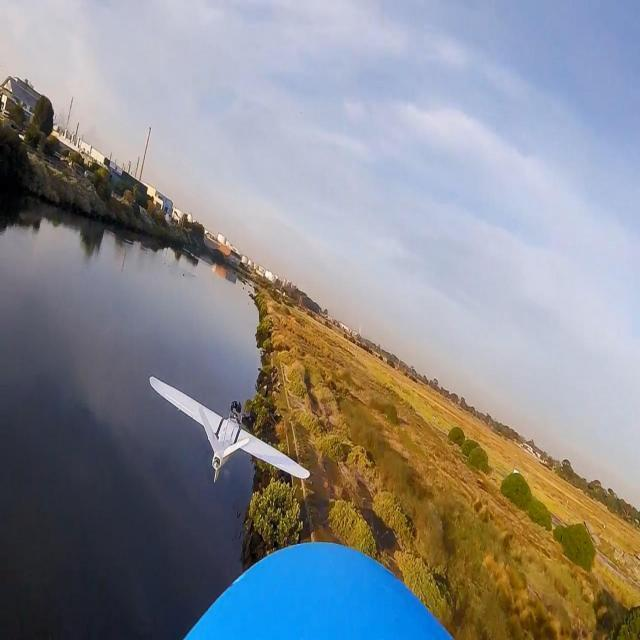iha: (136, 352, 329, 494)
